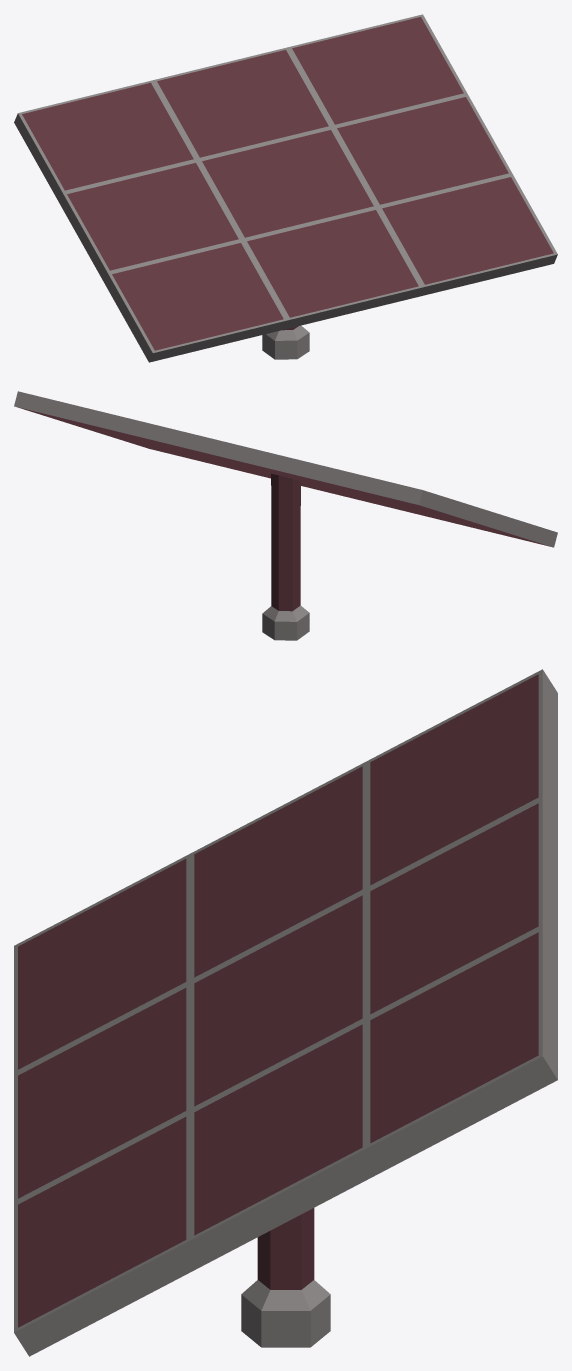
File: solar-panel.fbx
3 views of the same model, one above another, from view 1: azimuth 30°, elevation 25°; view 2: azimuth 150°, elevation 25°; view 3: azimuth 270°, elevation 25° (orthographic). The views are drawn at different scales.
Parts seen in each view (by area): view 1: solar-panel; view 2: solar-panel; view 3: solar-panel.
Boxes of the visible parts, box(x1,y1,x2,y2) form: solar-panel: box(14, 14, 557, 362); solar-panel: box(14, 391, 557, 640); solar-panel: box(14, 669, 557, 1356).
Size of the model in its own units: 3 by 1.69 by 1.78.
